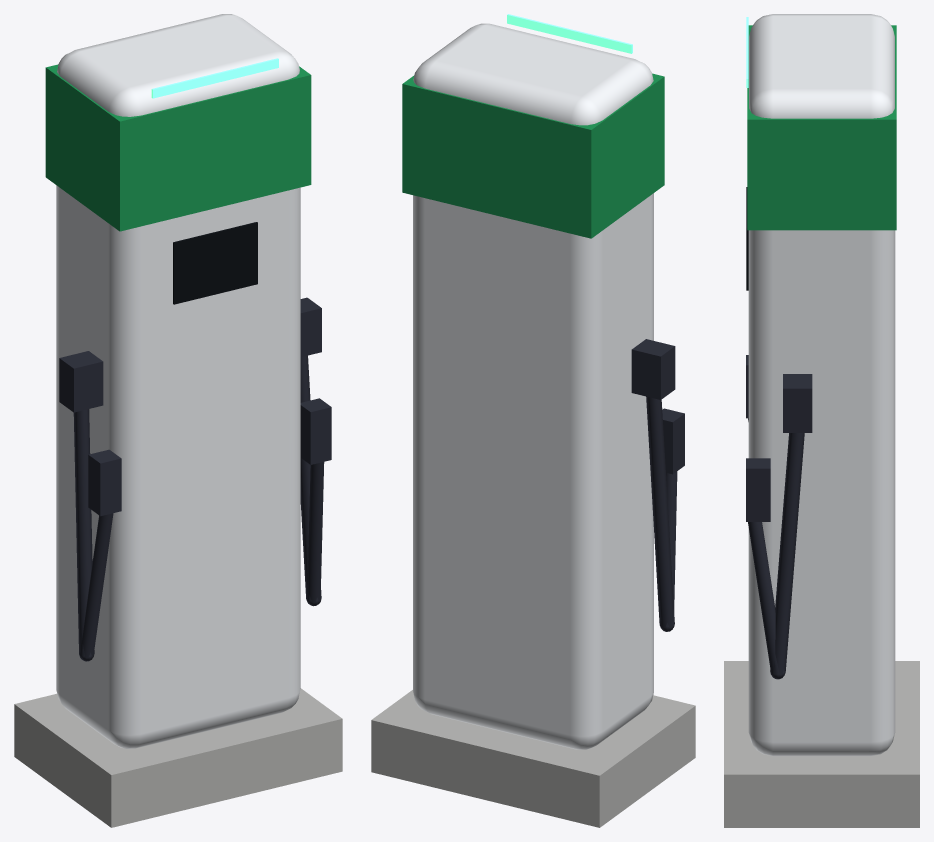
The model's file is prk-004.glb.
3 renders of one model, left to right at view 1: azimuth 30°, elevation 25°; view 2: azimuth 150°, elevation 25°; view 3: azimuth 270°, elevation 25°, orthographic. The views are drawn at different scales.
Parts seen in each view (by area): view 1: white, safety_green, laminate_grey, plastic_dark, monitor_screen, status_led; view 2: white, safety_green, laminate_grey, plastic_dark, status_led; view 3: white, laminate_grey, safety_green, plastic_dark.
Part boxes in pixels (left/top/right/bottom): white: left=56, top=14, right=300, bottom=748; safety_green: left=45, top=64, right=311, bottom=231; laminate_grey: left=14, top=688, right=342, bottom=827; plastic_dark: left=59, top=297, right=331, bottom=661; monitor_screen: left=173, top=222, right=257, bottom=304; status_led: left=151, top=58, right=278, bottom=98; white: left=413, top=23, right=653, bottom=749; safety_green: left=402, top=73, right=664, bottom=238; laminate_grey: left=371, top=690, right=695, bottom=827; plastic_dark: left=631, top=339, right=684, bottom=631; status_led: left=507, top=14, right=632, bottom=53; white: left=748, top=14, right=895, bottom=756; laminate_grey: left=724, top=661, right=919, bottom=827; safety_green: left=747, top=25, right=896, bottom=230; plastic_dark: left=746, top=355, right=812, bottom=679.
Size of the model in its own units: 0.59 by 1.63 by 0.4.
